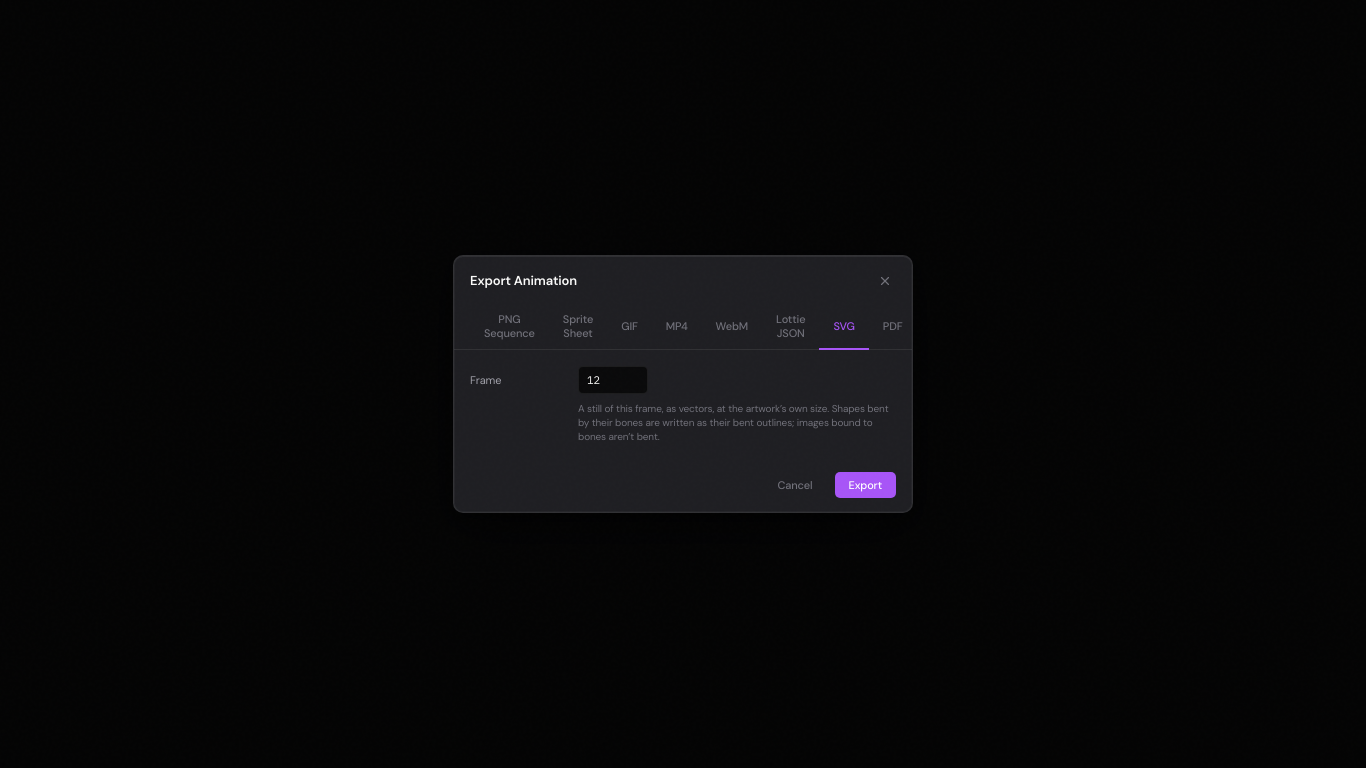
it: ExportDialog › rejects an SVG frame outside the timeline
Replace the text in the number field with test id "export-svg-frame" with "99" at (613, 380), box [578, 366, 648, 394]
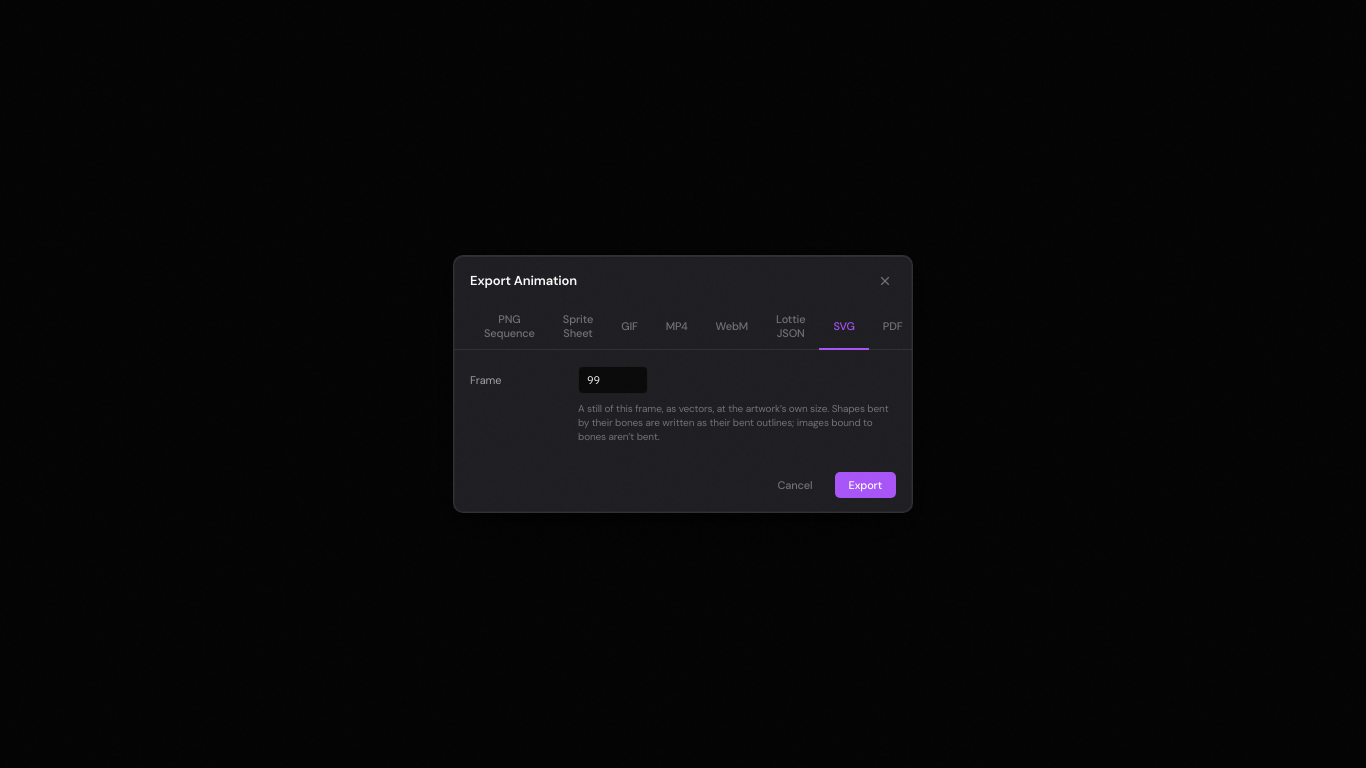
Click the button with test id "export-dialog-export" at (865, 485), box [834, 472, 896, 498]
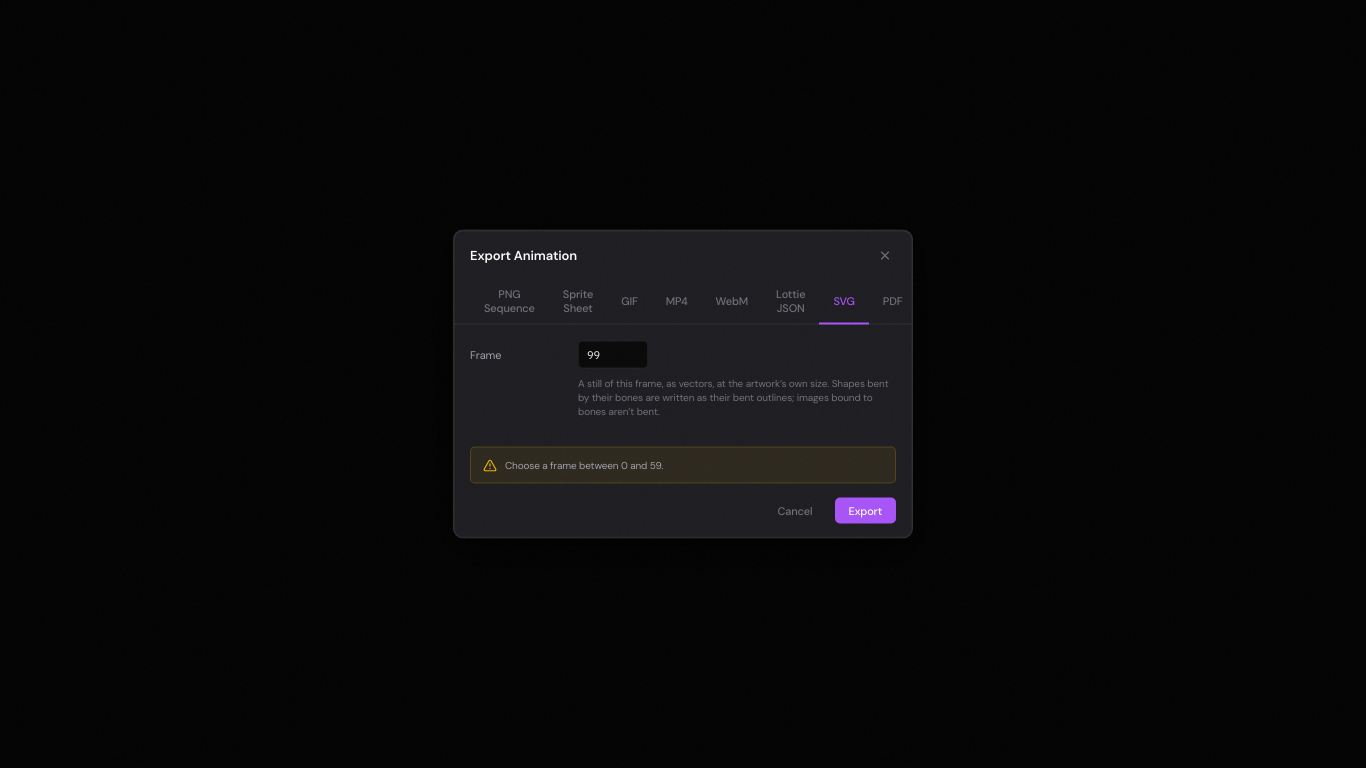
Now the message with test id "export-error" reads "Choose a frame between 0 and 59.", box [505, 458, 663, 472]
